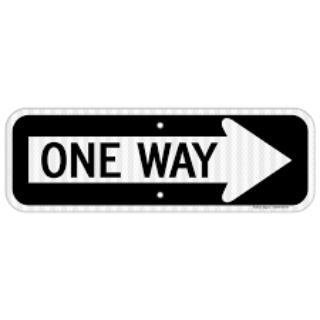sign_oneway_right: (12, 114, 306, 206)
